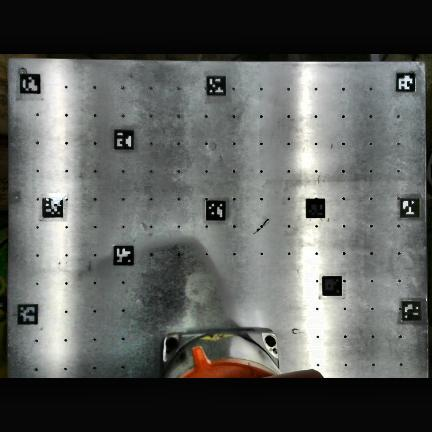marker: (16, 303, 39, 326), (205, 199, 226, 221), (206, 75, 226, 96), (399, 197, 420, 217), (42, 197, 63, 217), (20, 74, 40, 94), (305, 199, 325, 219), (402, 301, 422, 321), (114, 129, 133, 150), (322, 277, 342, 296), (113, 246, 133, 265), (395, 73, 415, 91)
